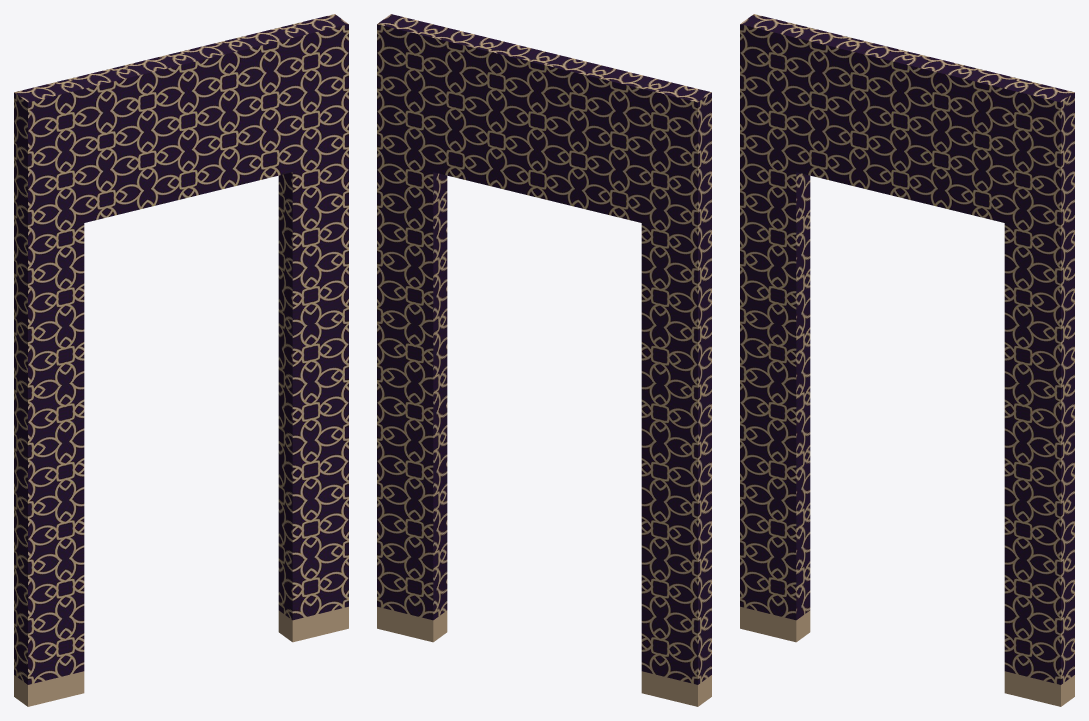
The model's file is ARC0210008.fbx.
The picture shows the model from 3 angles, left to right: view 1: azimuth 30°, elevation 25°; view 2: azimuth 150°, elevation 25°; view 3: azimuth 330°, elevation 25°; orthographic projection.
Visible parts, largest first — view 1: smARC0210008; view 2: smARC0210008; view 3: smARC0210008.
Part boxes in pixels (x1,y1,x2,y2): smARC0210008: (14,14,348,706); smARC0210008: (377,14,711,706); smARC0210008: (740,14,1074,706).
Bounding box in the file's own units: 182 × 328 × 13.67.
Materials: 1 (1 with a texture image).
